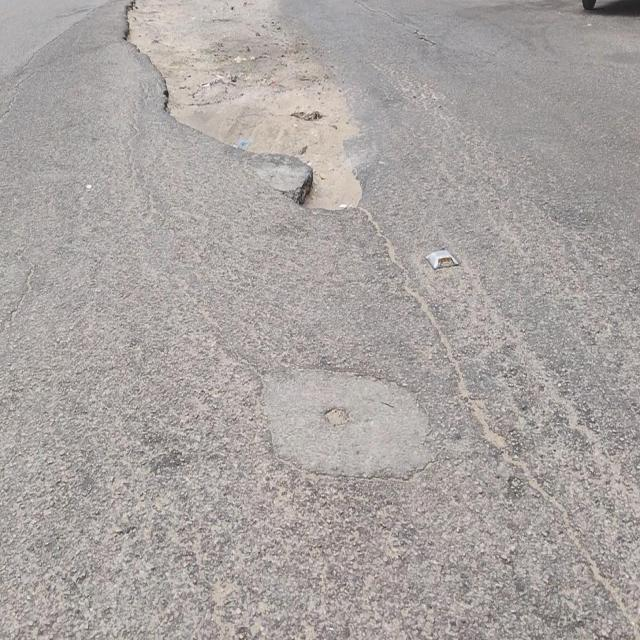Potholes: (295, 156, 370, 214), (161, 69, 202, 133), (122, 7, 159, 59), (130, 0, 159, 10)
